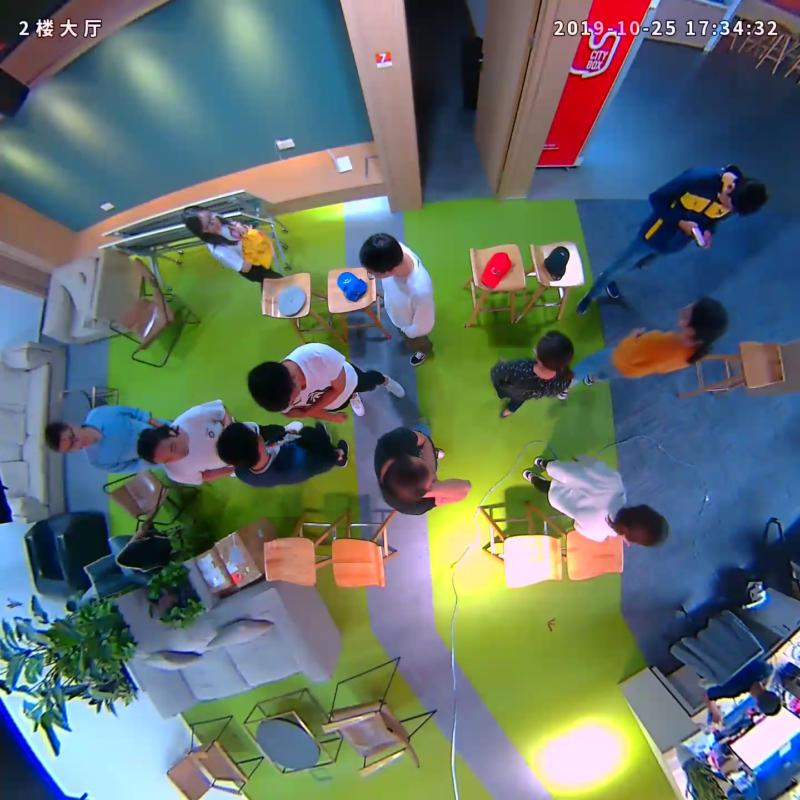head: (247, 362, 302, 414), (380, 455, 435, 502), (677, 298, 728, 345), (615, 504, 668, 546), (217, 421, 264, 468), (717, 176, 768, 219), (359, 232, 403, 280), (136, 426, 187, 465), (44, 420, 90, 456), (535, 330, 574, 372), (180, 205, 221, 237)
